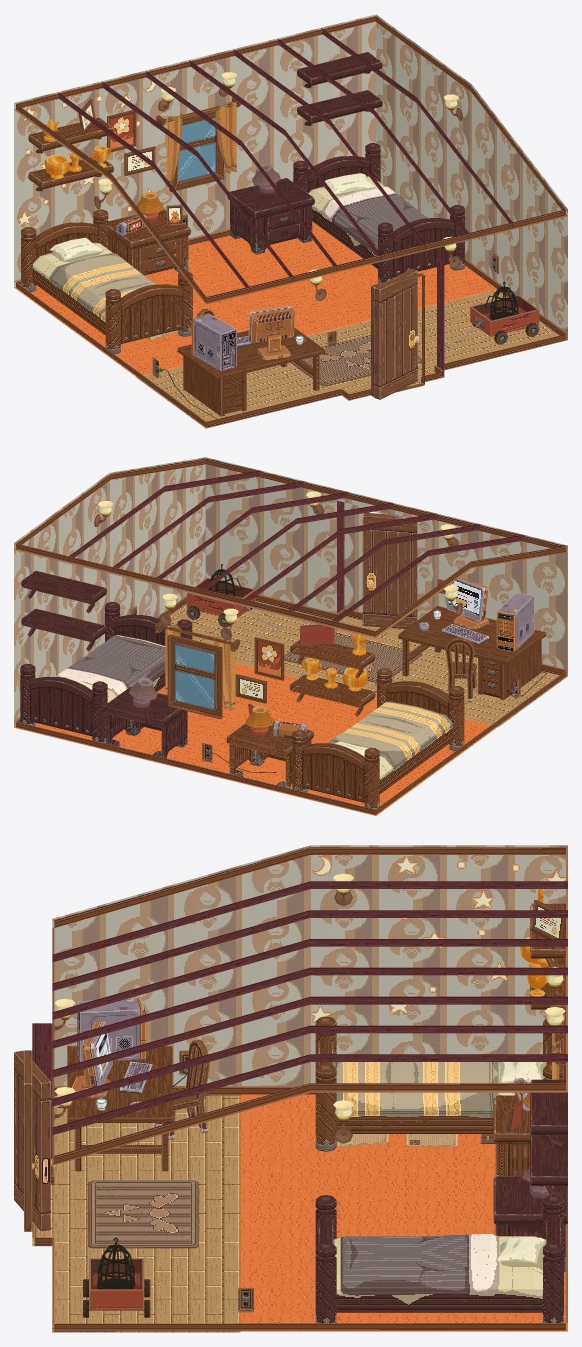
File: room-c.glb
3 views of the same model, one above another, from view 1: azimuth 30°, elevation 25°; view 2: azimuth 150°, elevation 25°; view 3: azimuth 270°, elevation 25° (orthographic). The views are drawn at different scales.
Parts seen in each view (by area): view 1: Floor_11, Floor_5, Floor_1, Floor_12, Floor_9, Floor_10, Floor_0, Floor_3, Floor_4, Floor_15, Floor_2, Floor_6 (+3 smaller); view 2: Floor_11, Floor_5, Floor_10, Floor_9, Floor_1, Floor_4, Floor_3, Floor_0, Floor_2, Floor_15, Floor_6, Floor_7 (+3 smaller); view 3: Floor_12, Floor_1, Floor_5, Floor_11, Floor_4, Floor_0, Floor_10, Floor_3, Floor_9, Floor_15, Floor_6, Floor_7 (+4 smaller).
Part boxes in pixels (bbox=[...]): Floor_11: bbox=[195, 14, 567, 339]; Floor_5: bbox=[21, 143, 464, 353]; Floor_1: bbox=[14, 221, 496, 377]; Floor_12: bbox=[14, 58, 194, 287]; Floor_9: bbox=[28, 52, 382, 275]; Floor_10: bbox=[14, 16, 567, 427]; Floor_0: bbox=[136, 289, 567, 428]; Floor_3: bbox=[44, 99, 539, 386]; Floor_4: bbox=[58, 28, 513, 377]; Floor_15: bbox=[371, 269, 424, 399]; Floor_2: bbox=[156, 97, 241, 191]; Floor_6: bbox=[191, 306, 295, 371]; Floor_11: bbox=[14, 457, 567, 727]; Floor_5: bbox=[20, 601, 464, 809]; Floor_10: bbox=[14, 458, 567, 814]; Floor_9: bbox=[21, 570, 375, 788]; Floor_1: bbox=[14, 663, 497, 815]; Floor_4: bbox=[68, 470, 523, 625]; Floor_3: bbox=[129, 564, 520, 762]; Floor_0: bbox=[170, 601, 567, 727]; Floor_2: bbox=[155, 621, 240, 719]; Floor_15: bbox=[362, 512, 417, 629]; Floor_6: bbox=[419, 577, 534, 652]; Floor_7: bbox=[398, 606, 545, 699]; Floor_12: bbox=[310, 845, 567, 1083]; Floor_1: bbox=[239, 1094, 567, 1331]; Floor_5: bbox=[315, 1016, 563, 1323]; Floor_11: bbox=[52, 845, 309, 1086]; Floor_4: bbox=[32, 881, 567, 1175]; Floor_0: bbox=[32, 1095, 239, 1332]; Floor_10: bbox=[32, 847, 567, 1331]; Floor_3: bbox=[54, 889, 565, 1317]; Floor_9: bbox=[493, 903, 567, 1271]; Floor_15: bbox=[14, 1050, 56, 1231]; Floor_6: bbox=[71, 998, 152, 1112]; Floor_7: bbox=[67, 1046, 172, 1117].
Size of the model in its own units: 8.13 by 3.99 by 8.01.
18 materials, 18 textured.
